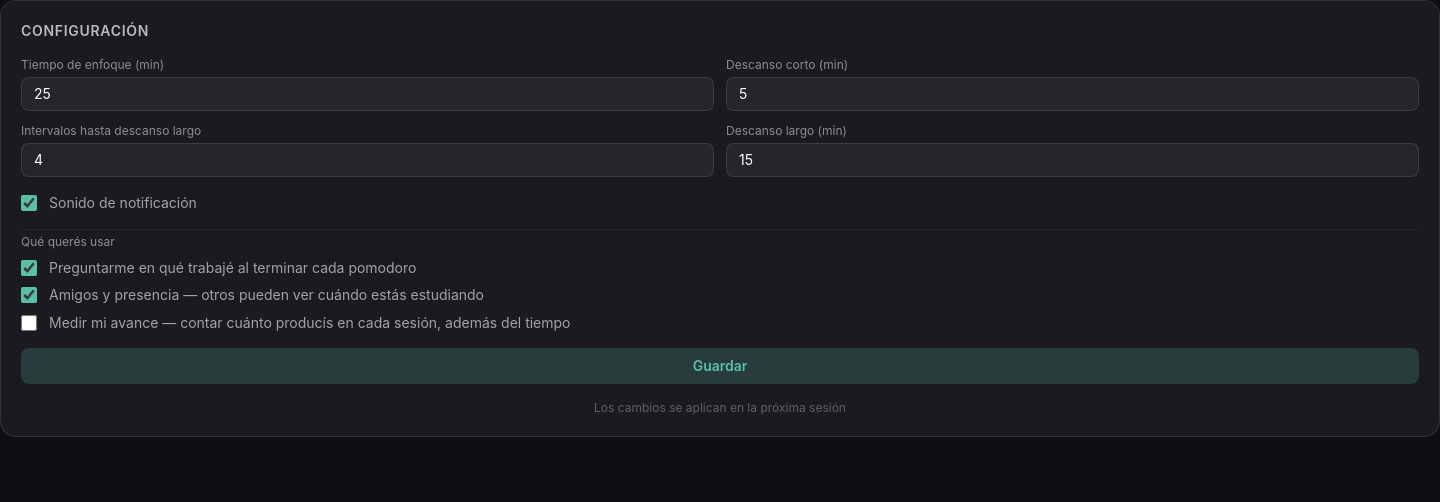
Test: SettingsPanel › muestra error si work_duration < 1
The image size is (1440, 502).
Replace the text in the number field labelled "Tiempo de enfoque (min)" with "0" at {"x": 368, "y": 94}, box [21,77,714,111]
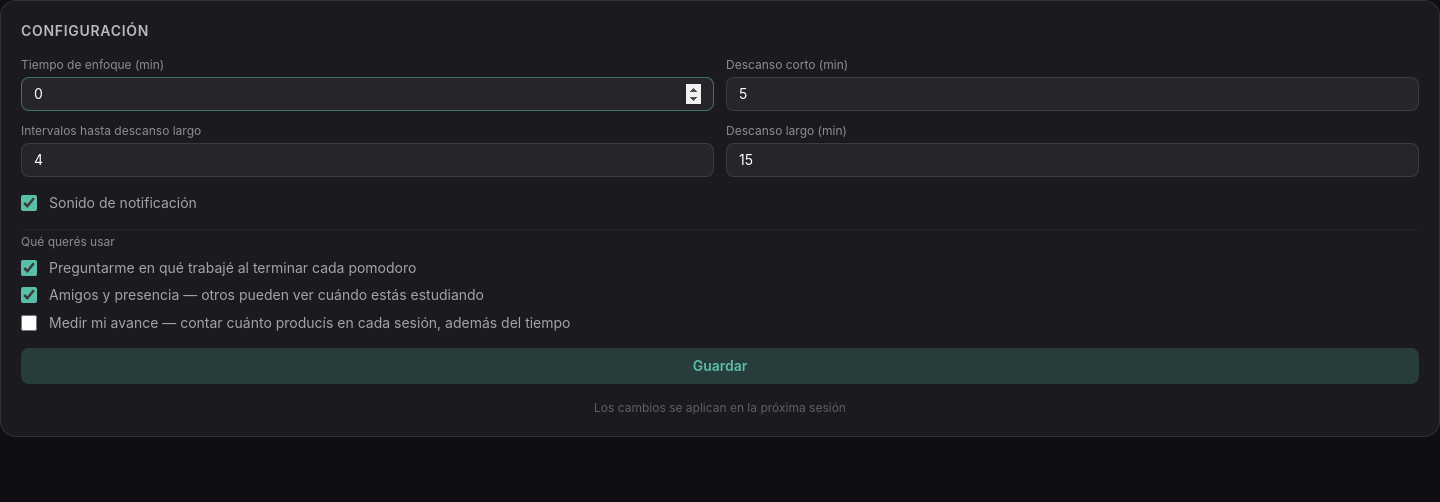
Click the button "Guardar".
click(720, 366)  # box [21,348,1419,384]
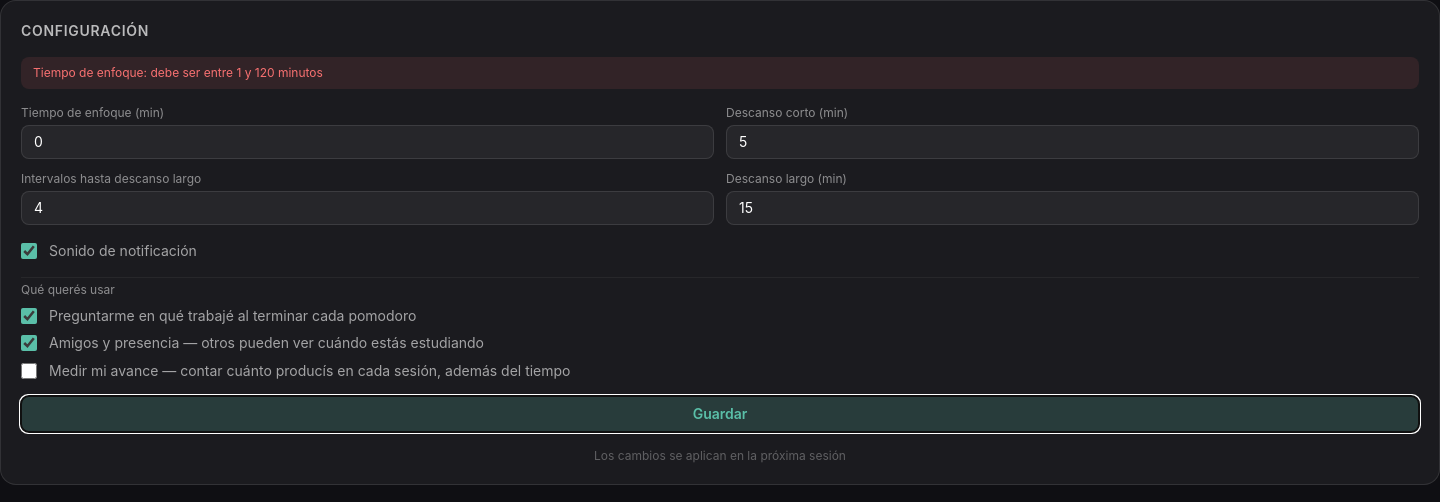
Expected: the message "Tiempo de enfoque: debe ser entre 1 y 120 minutos" is shown, [21,57,1419,89]
